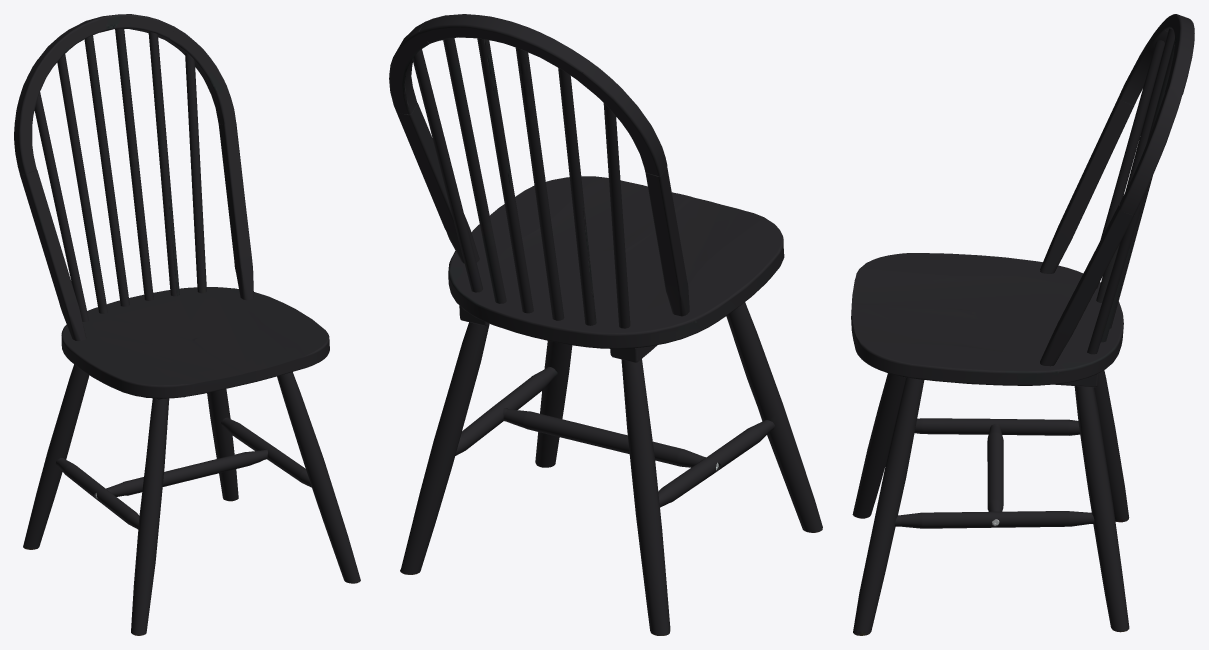
The picture shows the model from 3 angles, left to right: view 1: azimuth 30°, elevation 25°; view 2: azimuth 150°, elevation 25°; view 3: azimuth 270°, elevation 25°; orthographic projection. The views are drawn at different scales.
Parts seen in each view (by area): view 1: ASY_ART_50544867_S01_NV01; view 2: ASY_ART_50544867_S01_NV01; view 3: ASY_ART_50544867_S01_NV01.
Boxes of the visible parts, x1=… form: ASY_ART_50544867_S01_NV01: x1=14, y1=14, x2=360, y2=635; ASY_ART_50544867_S01_NV01: x1=389, y1=14, x2=822, y2=635; ASY_ART_50544867_S01_NV01: x1=851, y1=14, x2=1194, y2=635.
Bounding box in the file's own units: 0.4636 × 0.9434 × 0.5383.
1 material, 1 textured.
